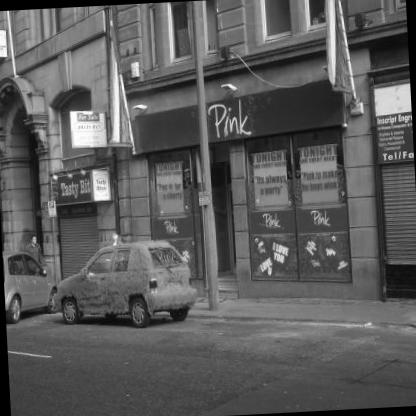car: (47, 230, 213, 349), (3, 240, 64, 335)
